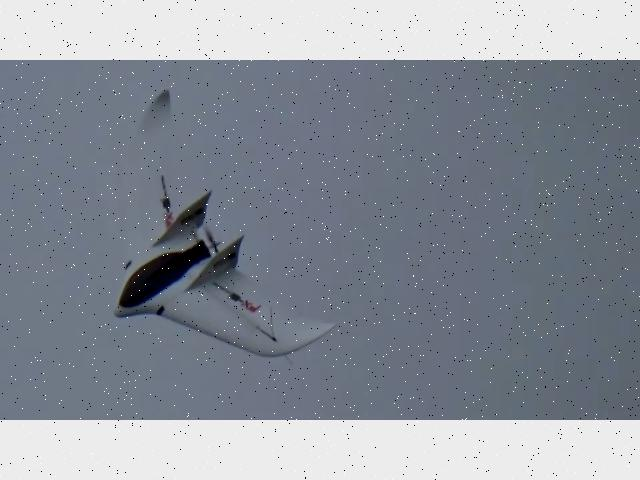Anti-Drone: (112, 91, 336, 358)
